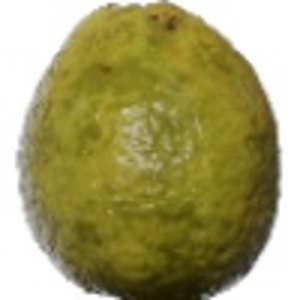goiaba: (16, 3, 283, 299)
